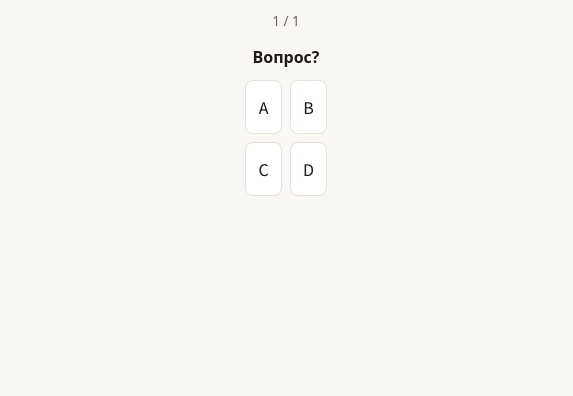
Test case: ReviewScreen › a card already at >= 3 lapses shows the leech hint on another miss
Click the button "B".
click(308, 107)  # box [290,80,327,134]
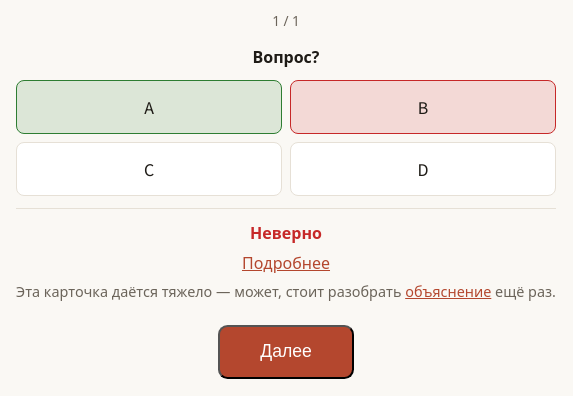
Now the text "даётся тяжело" is shown, box [16,282,401,301]
